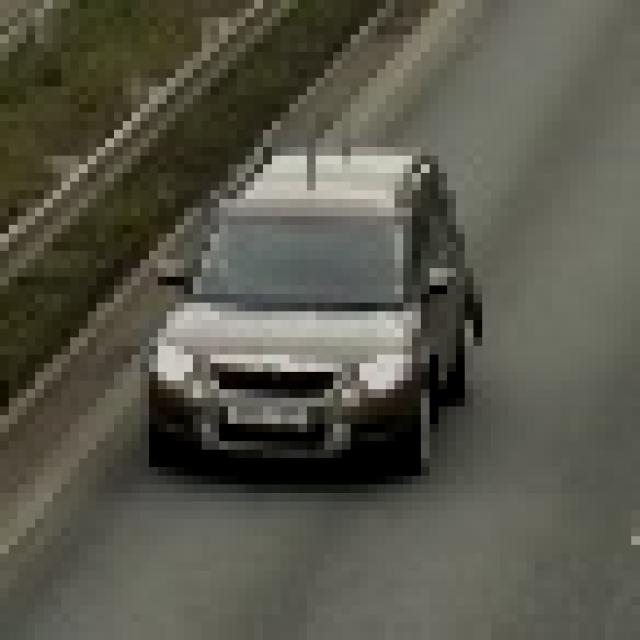SUV: (162, 159, 462, 471)
